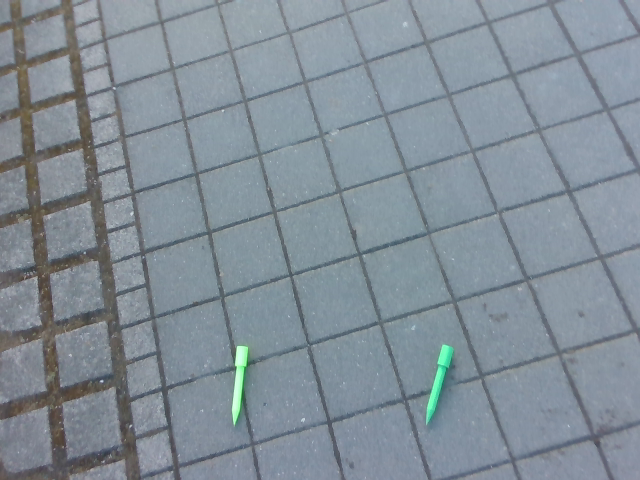Probe: (424, 340, 456, 427), (228, 343, 251, 430)
